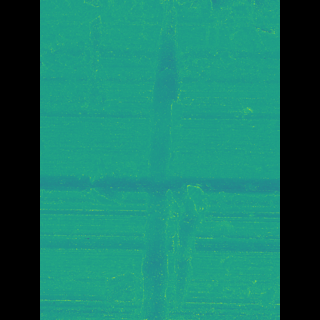Loch: (143, 0, 193, 320), (91, 0, 123, 129), (98, 151, 137, 217)
